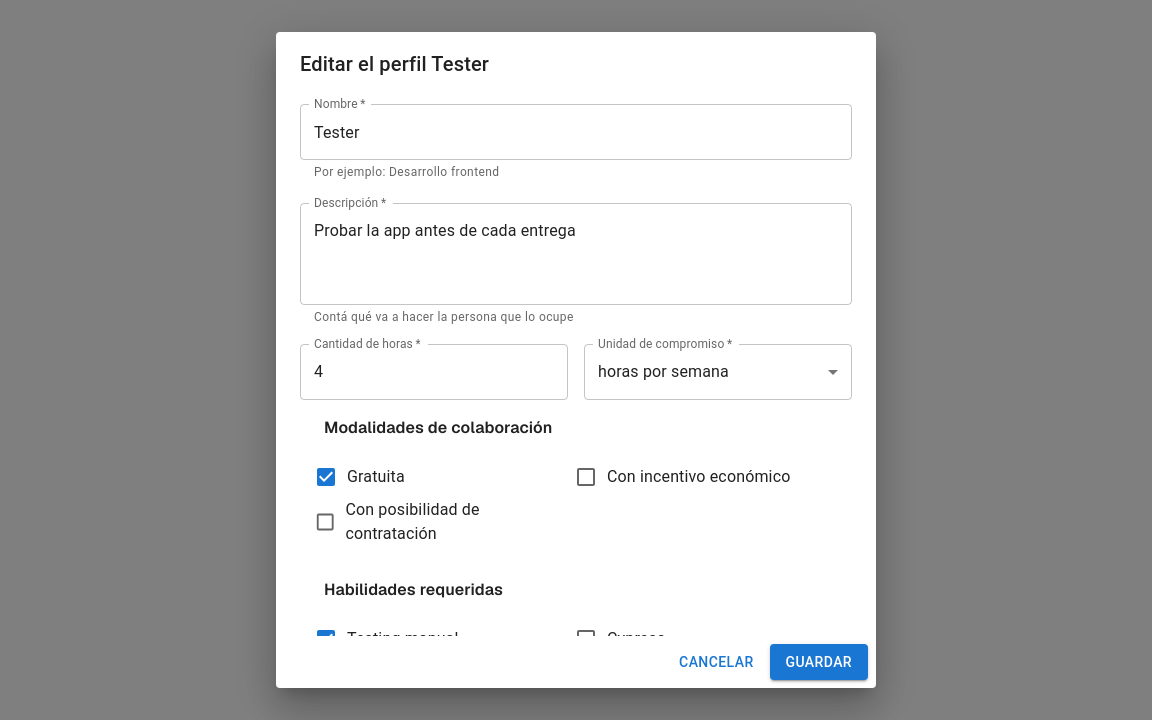
Test case: FormularioDePerfil al editar › manda solo los campos que cambiaron
Expected: the text box labelled "Descripción *" is shown, [314,219,838,288]
Replace the text in the number field labelled "Cantidad de horas *" with "6" at (434, 372), box [300,344,568,400]
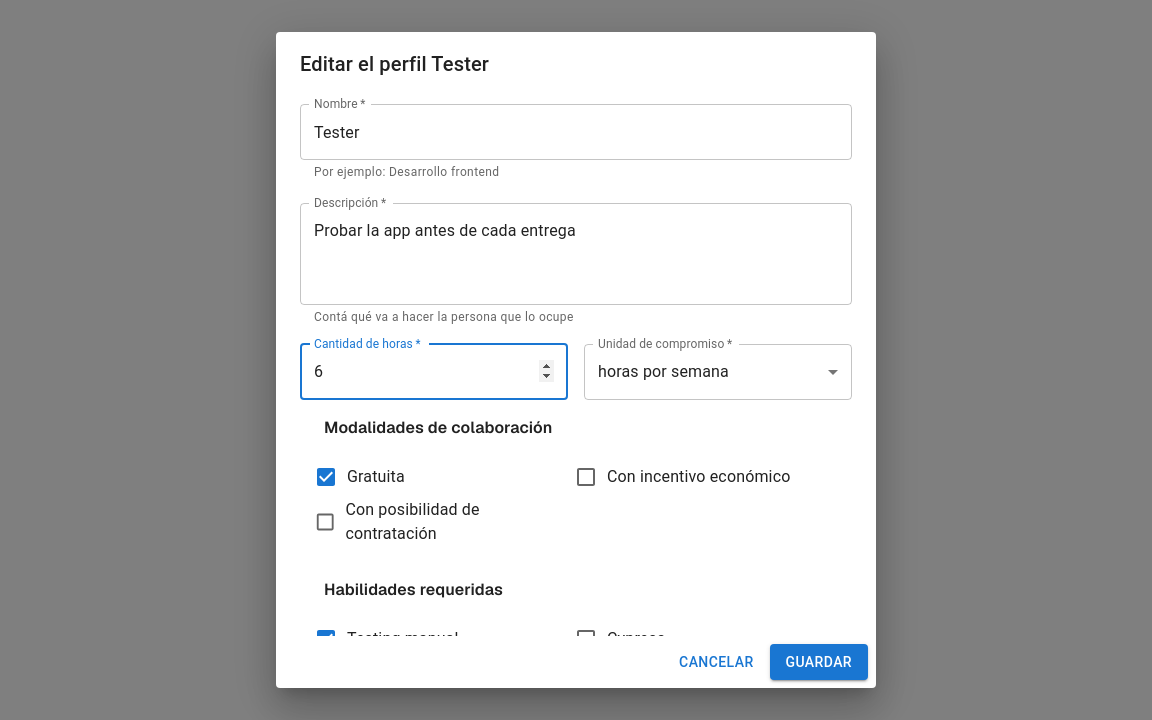
Click the button "Guardar" at (819, 662), box [770,644,868,680]
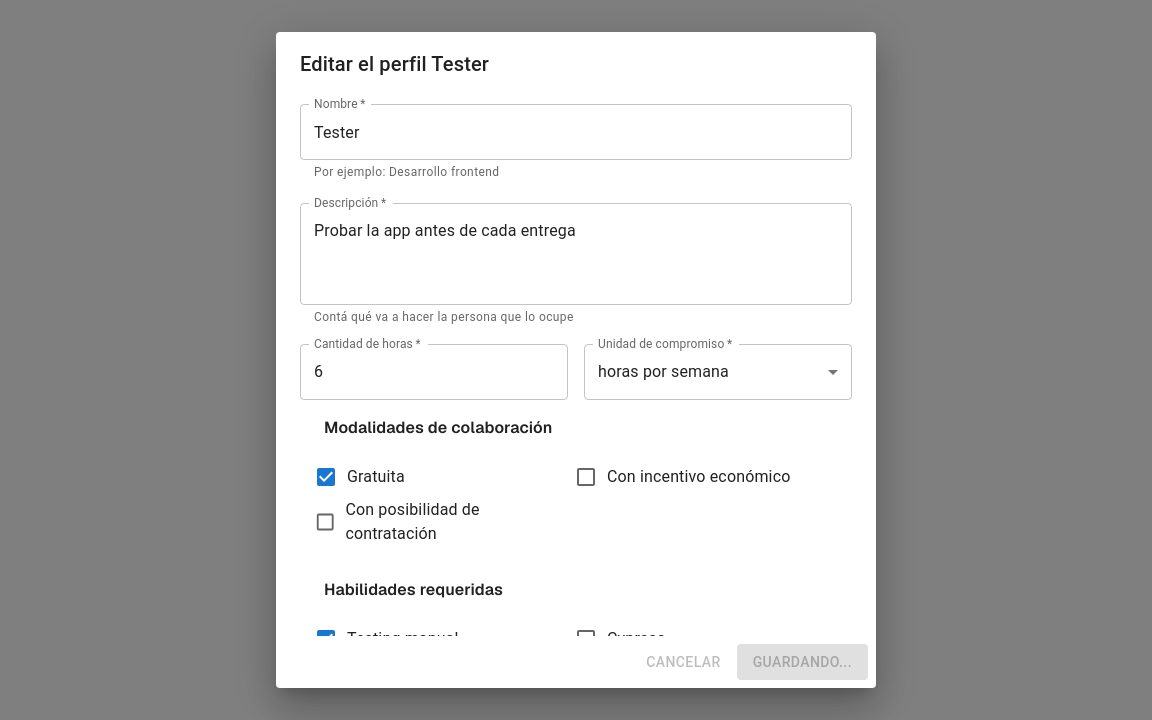
Expected: the button "Guardando..." is shown, [737,644,868,680]
Expected: the button "Cancelar" is disabled, [638,644,729,680]
